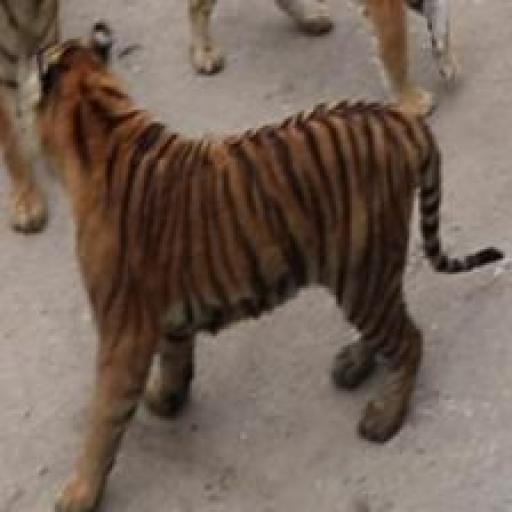Tiger: (23, 28, 499, 500)
